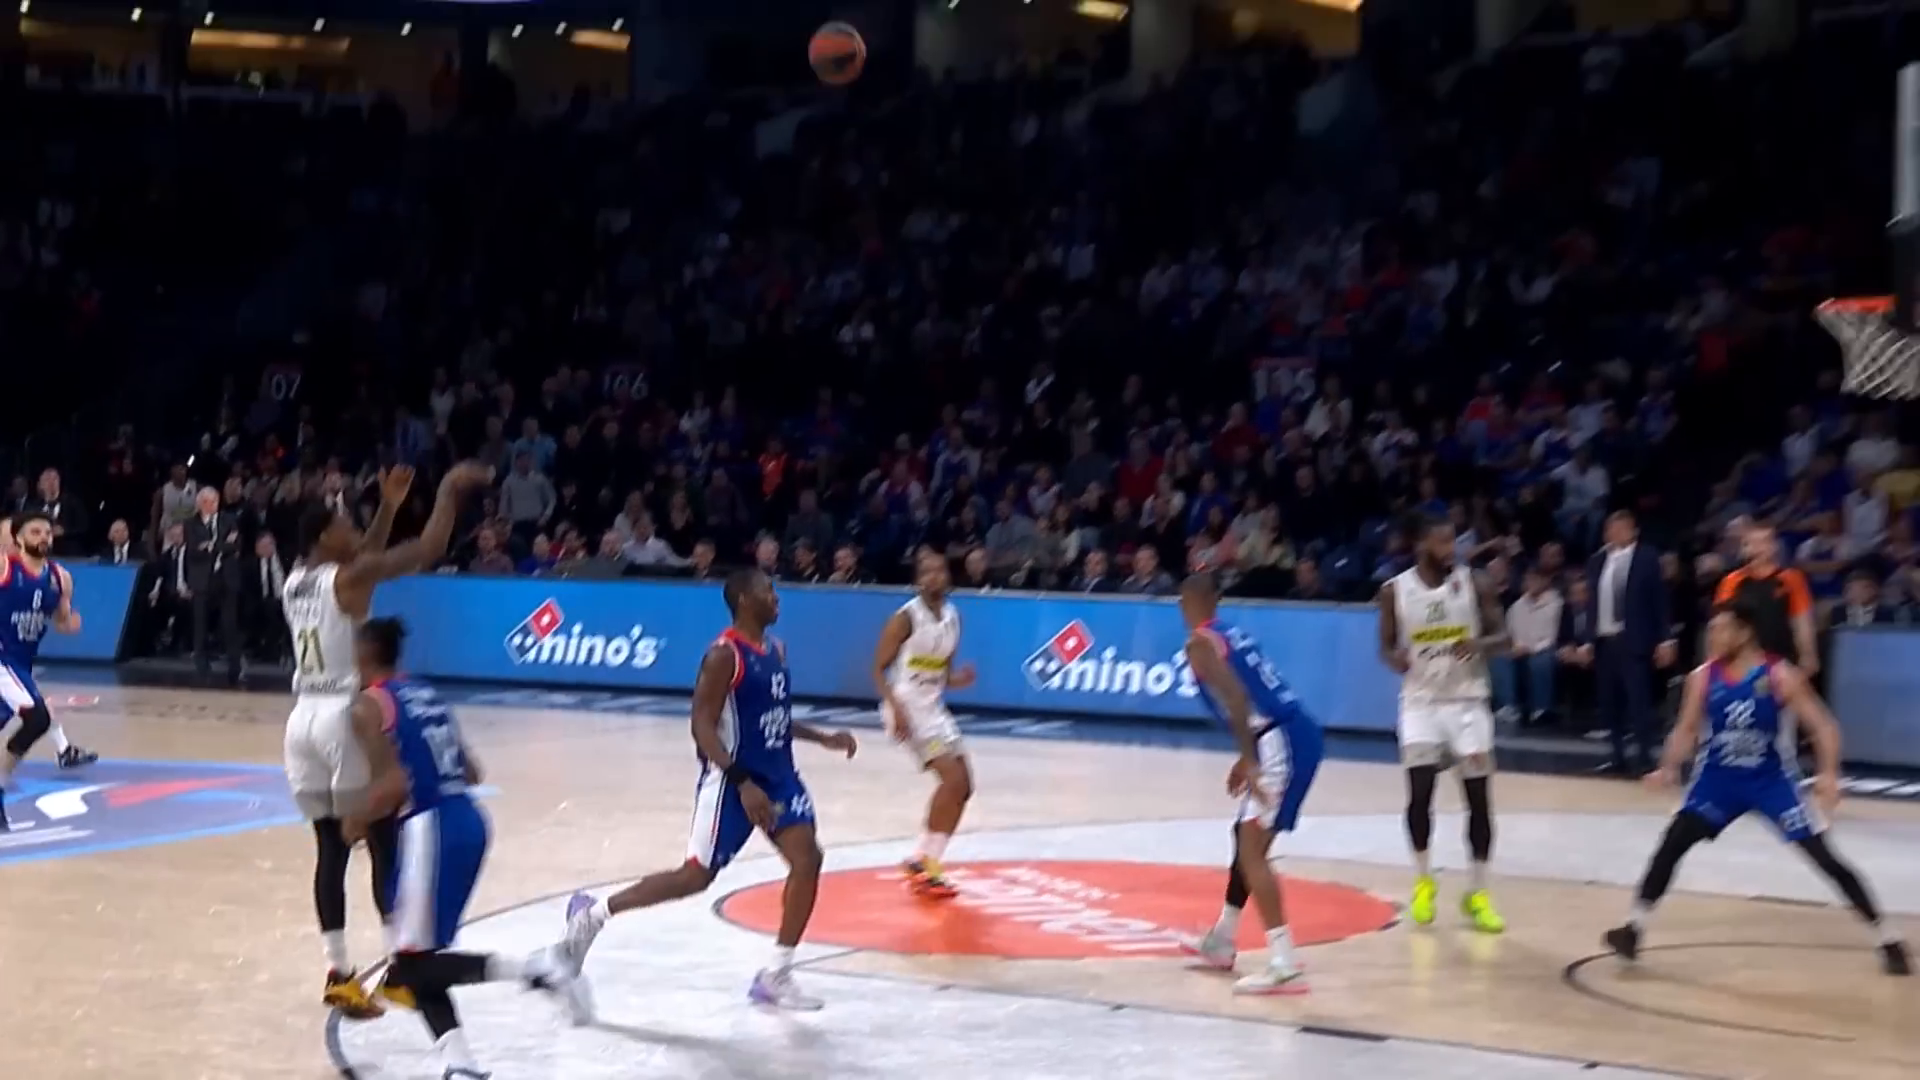ball: (798, 18, 878, 84)
net: (1808, 289, 1920, 402)
